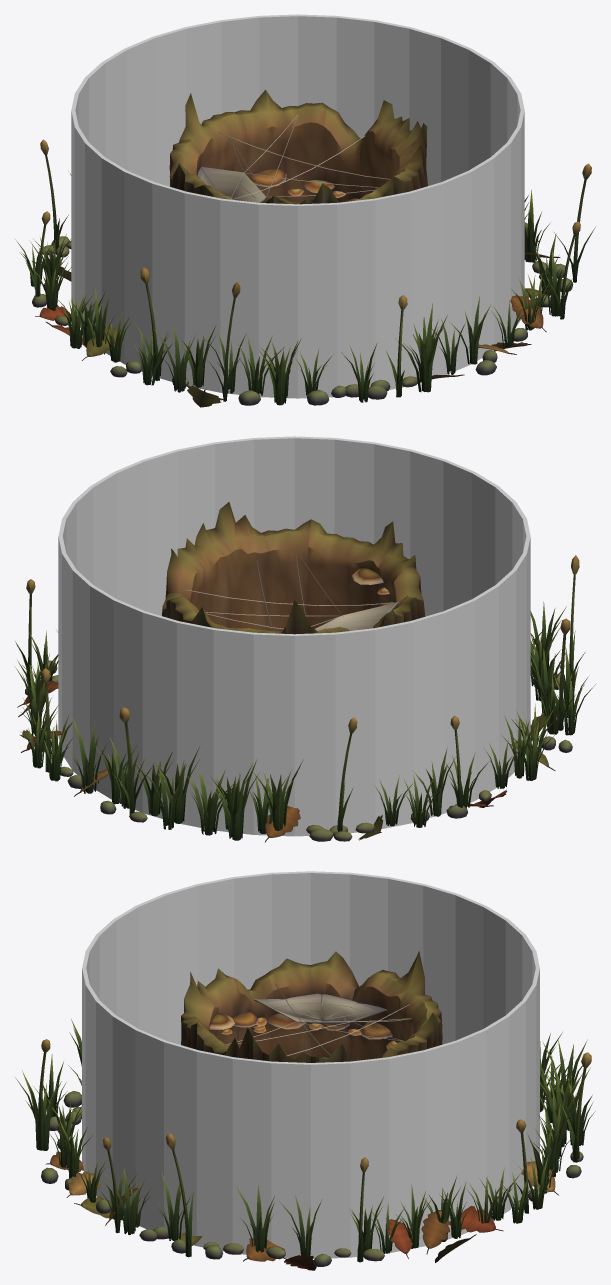
The model's file is lobby.fbx.
3 views of the same model, one above another, from view 1: azimuth 30°, elevation 25°; view 2: azimuth 150°, elevation 25°; view 3: azimuth 270°, elevation 25° (orthographic). The views are drawn at different scales.
Visible parts, largest first — view 1: BARRIER_Boundary_25, BARRIER_Boundary_26, BARRIER_Boundary_24, BARRIER_Boundary_27, BARRIER_Boundary_22, BARRIER_Boundary_23, BARRIER_Boundary_21, BARRIER_Boundary_28, BARRIER_Boundary_29, BARRIER_Boundary_20, BARRIER_Boundary_05, BARRIER_Boundary_30 (+52 smaller); view 2: BARRIER_Boundary_13, BARRIER_Boundary_14, BARRIER_Boundary_15, BARRIER_Boundary_11, BARRIER_Boundary_12, BARRIER_Boundary_10, BARRIER_Boundary_16, BARRIER_Boundary_09, BARRIER_Boundary_17, BARRIER_Boundary_08, BARRIER_Boundary_27, BARRIER_Boundary_18 (+59 smaller); view 3: BARRIER_Boundary_01, BARRIER_Boundary_36, BARRIER_Boundary_34, BARRIER_Boundary_35, BARRIER_Boundary_02, BARRIER_Boundary_03, BARRIER_Boundary_04, BARRIER_Boundary_32, BARRIER_Boundary_33, BARRIER_Boundary_05, BARRIER_Boundary_15, BARRIER_Boundary_06 (+54 smaller).
Boxes of the visible parts, x1=… form: BARRIER_Boundary_25: x1=298, y1=203, x2=337, y2=398; BARRIER_Boundary_26: x1=337, y1=198, x2=375, y2=396; BARRIER_Boundary_24: x1=258, y1=203, x2=297, y2=398; BARRIER_Boundary_27: x1=374, y1=192, x2=411, y2=389; BARRIER_Boundary_22: x1=184, y1=192, x2=221, y2=392; BARRIER_Boundary_23: x1=220, y1=198, x2=258, y2=394; BARRIER_Boundary_21: x1=152, y1=182, x2=186, y2=381; BARRIER_Boundary_28: x1=409, y1=182, x2=443, y2=382; BARRIER_Boundary_29: x1=441, y1=170, x2=471, y2=374; BARRIER_Boundary_20: x1=124, y1=171, x2=154, y2=375; BARRIER_Boundary_05: x1=336, y1=16, x2=374, y2=138; BARRIER_Boundary_30: x1=469, y1=157, x2=494, y2=360; BARRIER_Boundary_13: x1=294, y1=632, x2=335, y2=836; BARRIER_Boundary_14: x1=335, y1=628, x2=375, y2=833; BARRIER_Boundary_15: x1=374, y1=621, x2=412, y2=829; BARRIER_Boundary_11: x1=213, y1=628, x2=253, y2=834; BARRIER_Boundary_12: x1=253, y1=632, x2=294, y2=836; BARRIER_Boundary_10: x1=176, y1=621, x2=214, y2=828; BARRIER_Boundary_16: x1=411, y1=611, x2=446, y2=822; BARRIER_Boundary_09: x1=142, y1=611, x2=178, y2=818; BARRIER_Boundary_17: x1=444, y1=599, x2=475, y2=812; BARRIER_Boundary_08: x1=113, y1=599, x2=144, y2=812; BARRIER_Boundary_27: x1=410, y1=450, x2=445, y2=616; BARRIER_Boundary_18: x1=472, y1=585, x2=498, y2=800; BARRIER_Boundary_01: x1=311, y1=1061, x2=350, y2=1258; BARRIER_Boundary_36: x1=271, y1=1061, x2=310, y2=1258; BARRIER_Boundary_34: x1=196, y1=1050, x2=233, y2=1251; BARRIER_Boundary_35: x1=232, y1=1057, x2=271, y2=1254; BARRIER_Boundary_02: x1=350, y1=1057, x2=389, y2=1257; BARRIER_Boundary_03: x1=388, y1=1050, x2=425, y2=1252; BARRIER_Boundary_04: x1=424, y1=1041, x2=458, y2=1245; BARRIER_Boundary_32: x1=135, y1=1029, x2=165, y2=1230; BARRIER_Boundary_33: x1=164, y1=1041, x2=198, y2=1245; BARRIER_Boundary_05: x1=456, y1=1029, x2=486, y2=1234; BARRIER_Boundary_15: x1=423, y1=884, x2=457, y2=1044; BARRIER_Boundary_06: x1=483, y1=1015, x2=509, y2=1219.
Size of what is drawn, in the model's own units: 55415 by 24800 by 56542.
